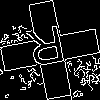R: (25, 25, 70, 76)
